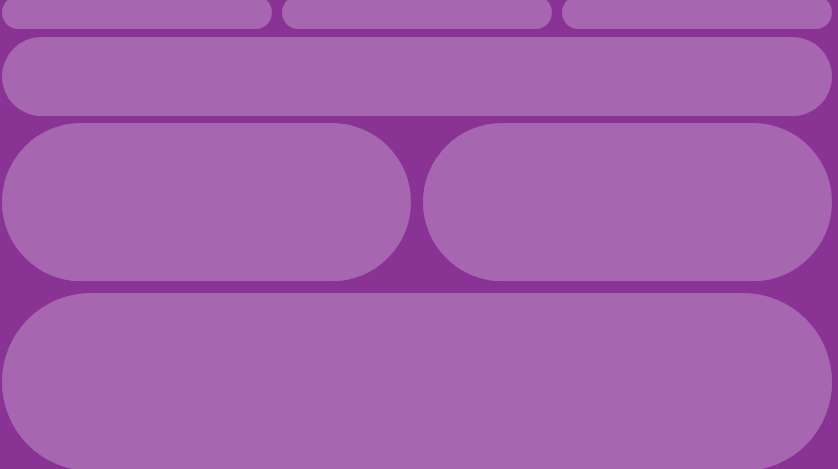

Layout of this report page (visuals, bound fields, positions):
{"tool":"powerbi","page":{"name":"Page 1","canvas":[1280,720],"ordinal":0},"visuals":[{"type":"shape","box":[10.6,0,409.5,50],"z":0},{"type":"shape","box":[435.3,0,409.5,50],"z":1000},{"type":"shape","box":[859.9,0,409.5,50],"z":2000},{"type":"shape","box":[10.6,62.2,1258.8,120],"z":3000},{"type":"shape","box":[10.6,450.4,1258.8,270],"z":4000},{"type":"shape","box":[10.6,192.6,620.3,240],"z":5000},{"type":"shape","box":[649.1,192.6,620.3,240],"z":6000}]}

Visuals, with their boxes in screenshot pixels (x1, y1, x2, y2), scaled from the page's 1280x720 canvas onto the 838x469 screenshot:
shape: (x1=7, y1=0, x2=275, y2=33)
shape: (x1=285, y1=0, x2=553, y2=33)
shape: (x1=563, y1=0, x2=831, y2=33)
shape: (x1=7, y1=41, x2=831, y2=119)
shape: (x1=7, y1=293, x2=831, y2=468)
shape: (x1=7, y1=125, x2=413, y2=282)
shape: (x1=425, y1=125, x2=831, y2=282)
